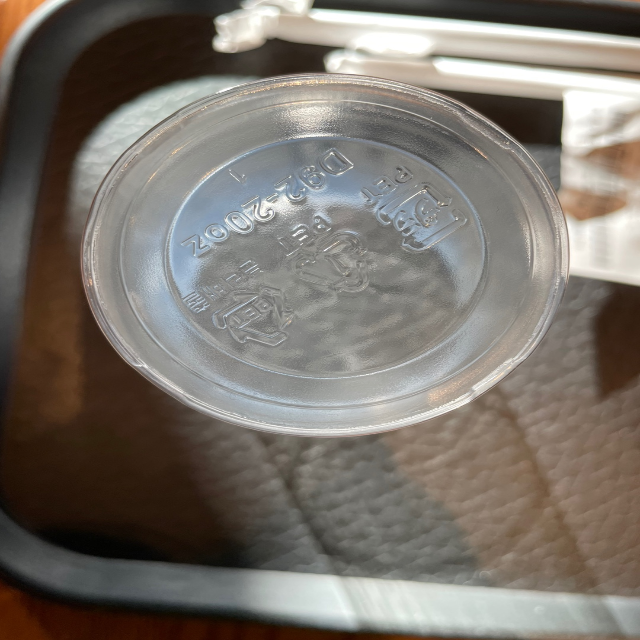pet: (182, 257, 297, 353), (358, 163, 468, 255), (277, 213, 373, 296)
